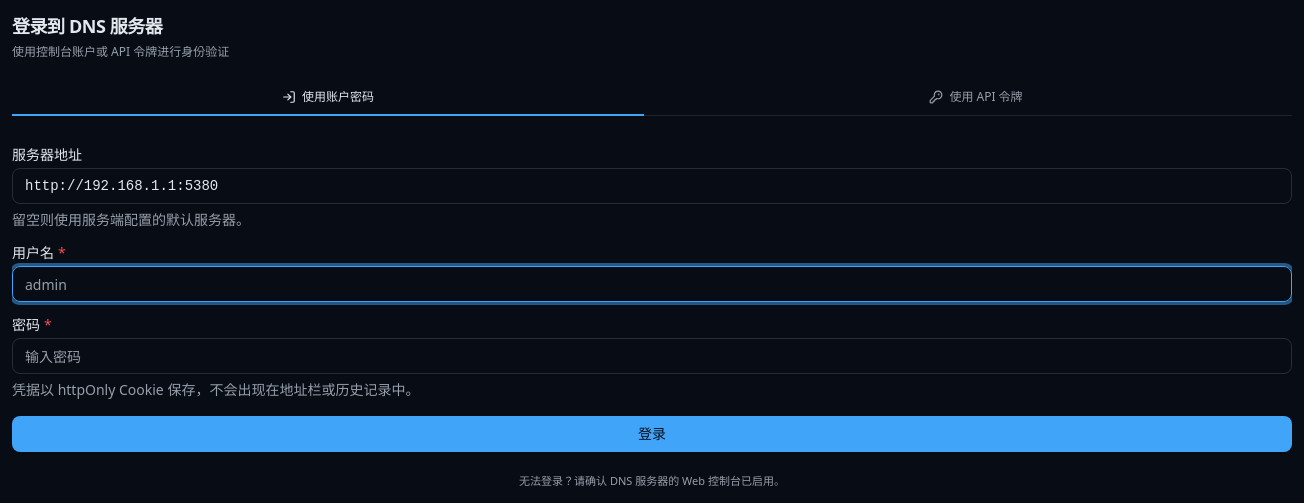
Scenario: LoginForm — API token validation › disables submit and shows error when token is shorter than 16 chars
Click the tab "使用 API 令牌" at (976, 98), box [660, 80, 1292, 116]
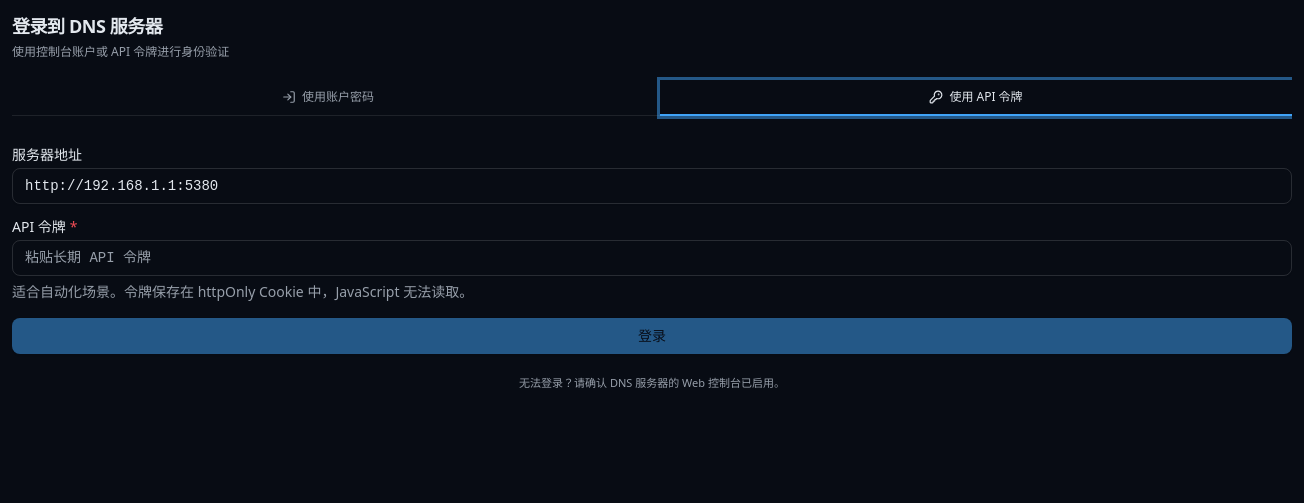
Type "short" into the password field labelled "API 令牌 *" at (652, 258), box [12, 240, 1292, 276]
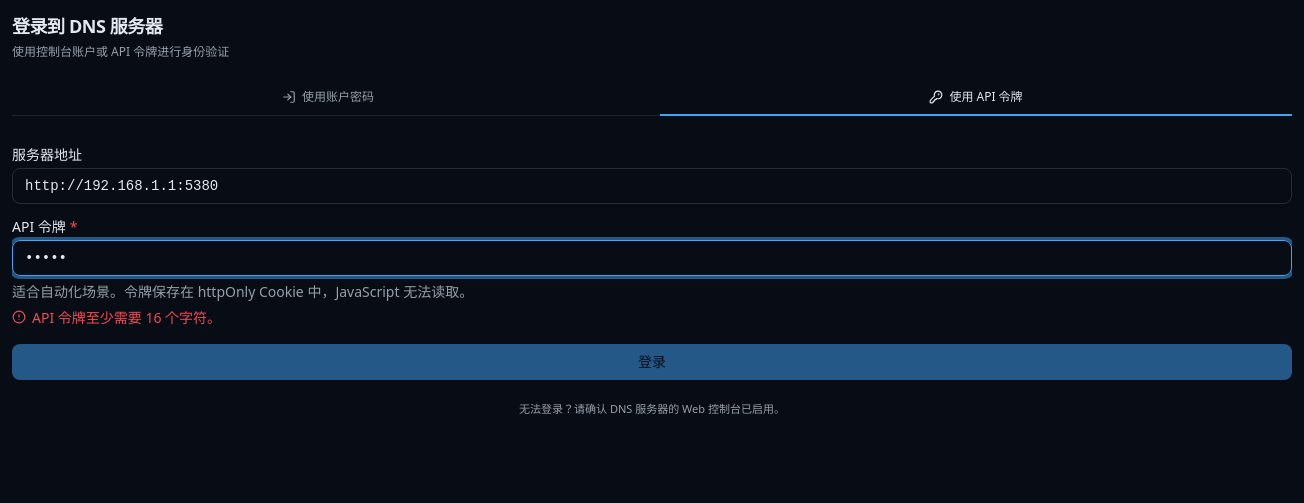
Now the button "登录" is disabled, box [12, 344, 1292, 380]
Now the text "API 令牌至少需要 16 个字符。" is shown, box [12, 308, 221, 327]
